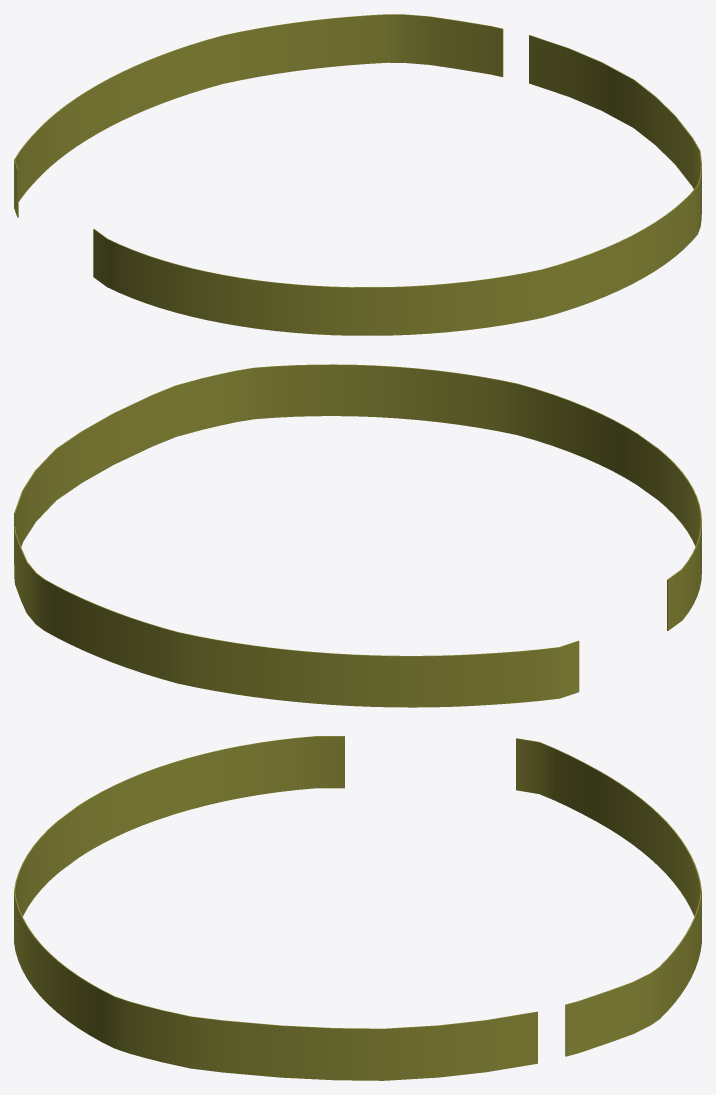
Rendered from tutorial  handrail_collider.fbx.
The picture shows the model from 3 angles, top to bottom: view 1: azimuth 30°, elevation 25°; view 2: azimuth 150°, elevation 25°; view 3: azimuth 270°, elevation 25°; orthographic projection. The views are drawn at different scales.
Parts seen in each view (by area): view 1: Shape013; view 2: Shape013; view 3: Shape013.
Part boxes in pixels (x1,y1,x2,y2): Shape013: (14,14,701,335); Shape013: (14,364,701,707); Shape013: (14,736,701,1080).
Bounding box in the file's own units: 12147 × 12053 × 1001.
